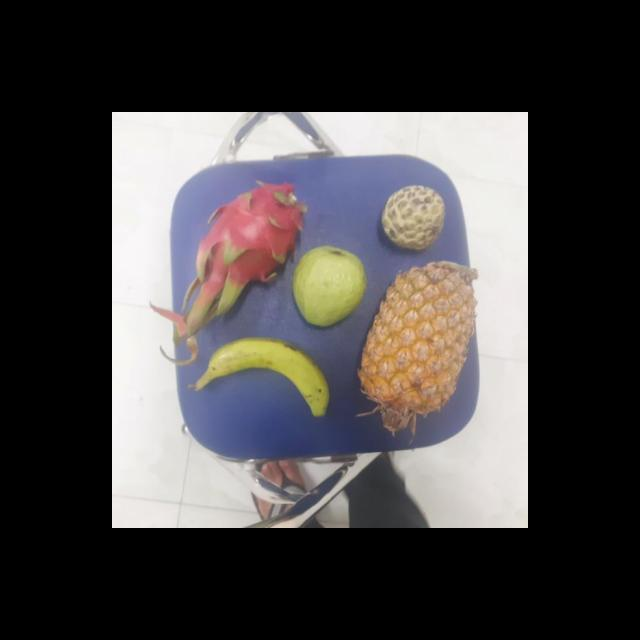Sakya fruit: (378, 186, 446, 249)
banana: (190, 336, 328, 414)
guava: (290, 246, 367, 326)
pineapple: (359, 262, 474, 418)
pitaya: (194, 183, 304, 289)
